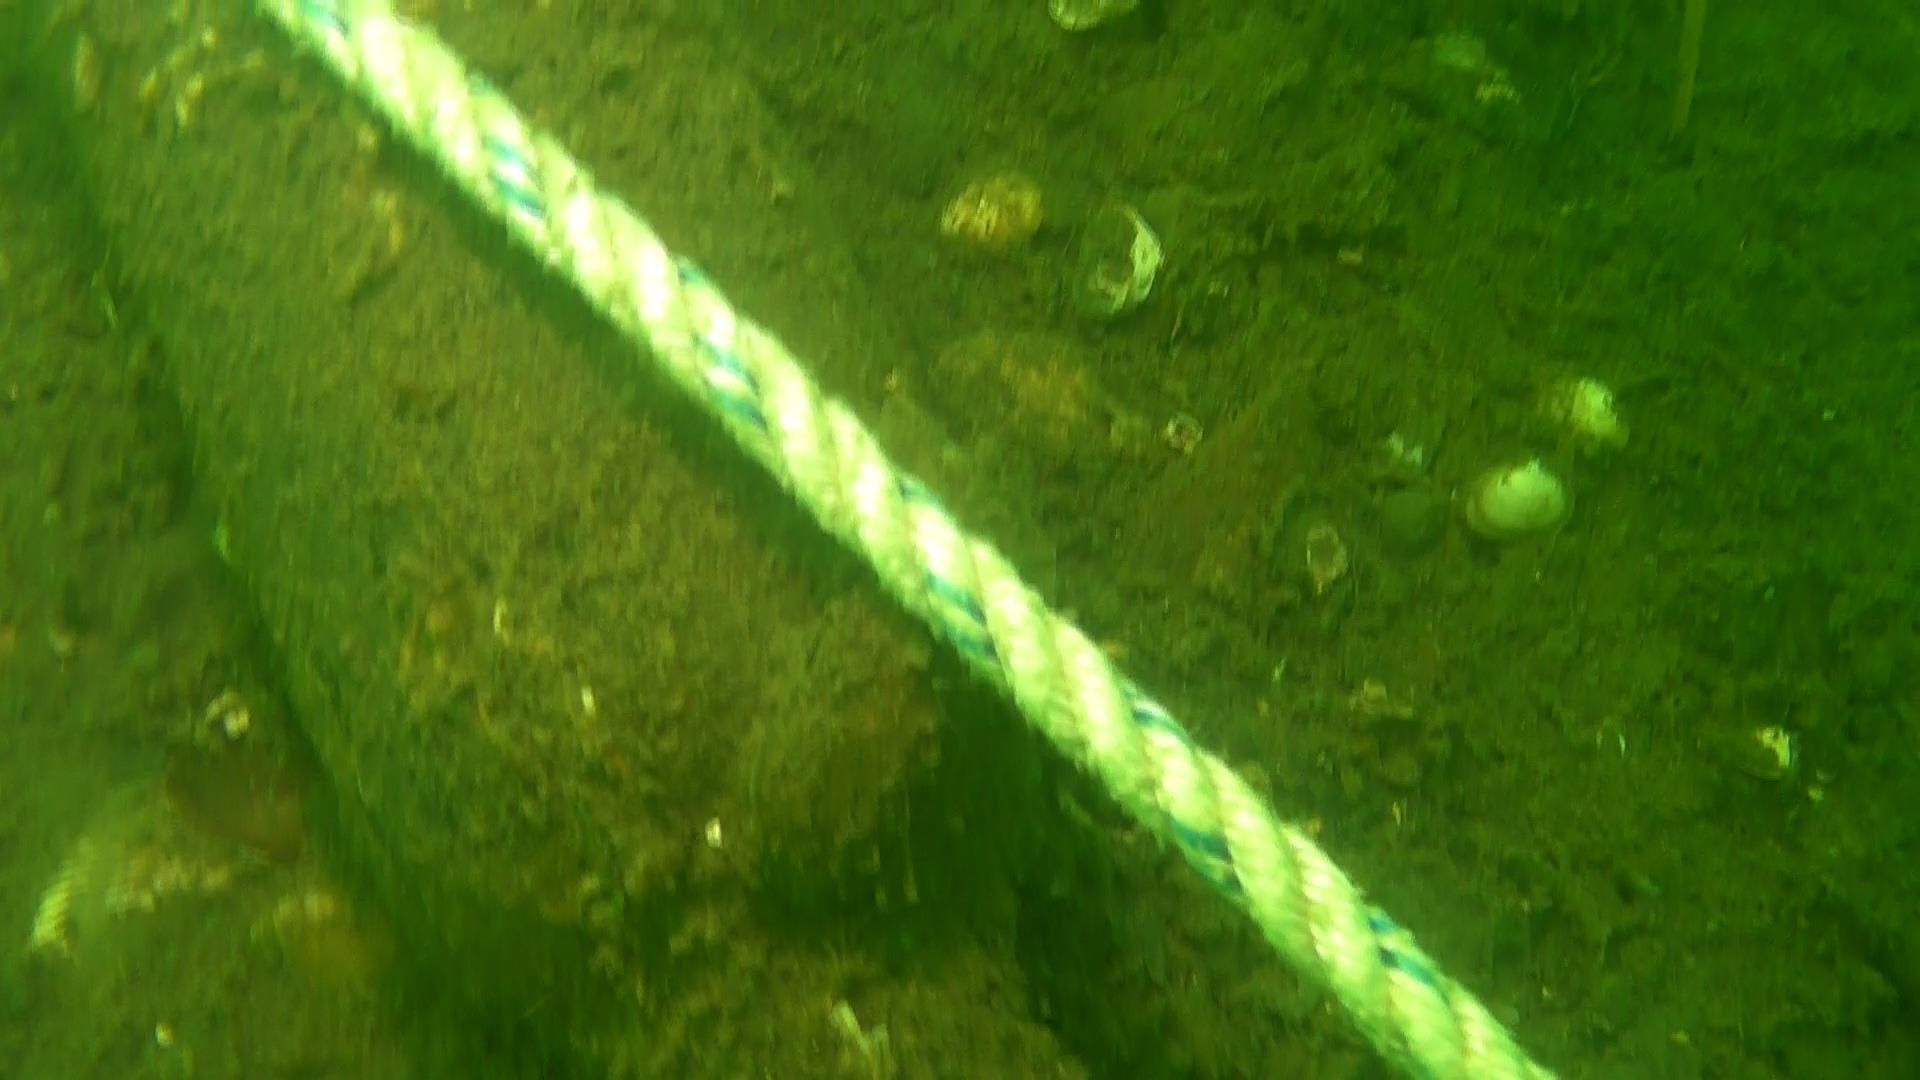rope: (247, 0, 1585, 1080)
